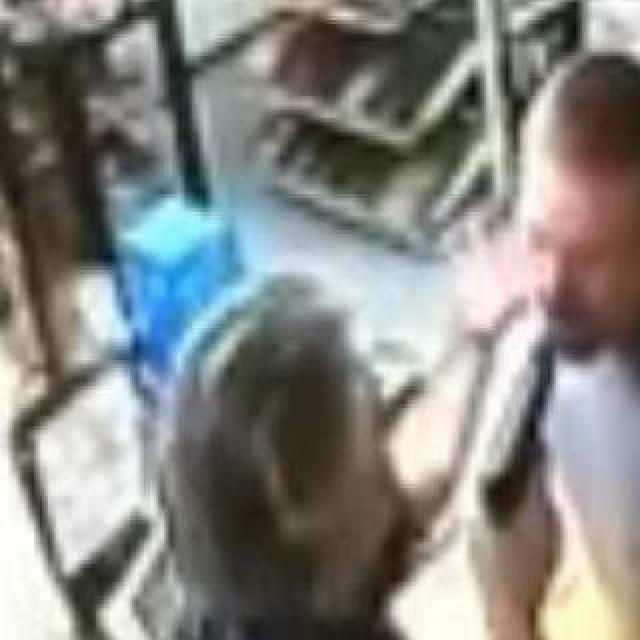Guns: (472, 332, 573, 528)
